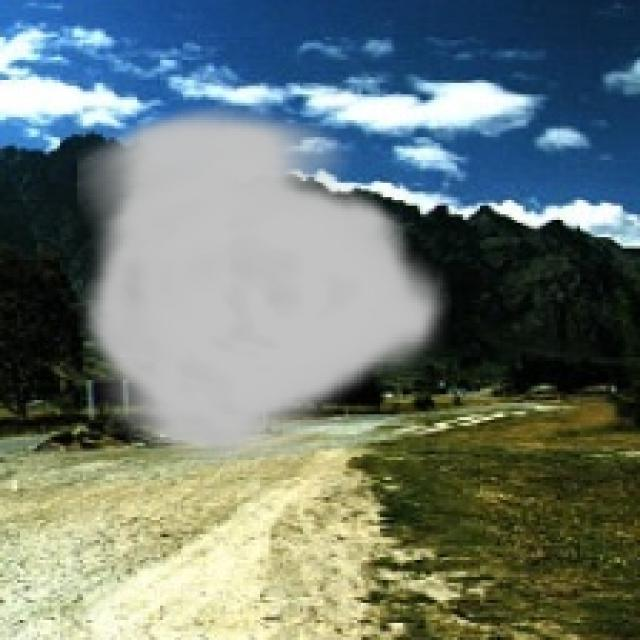Smoke: (77, 102, 452, 474)
